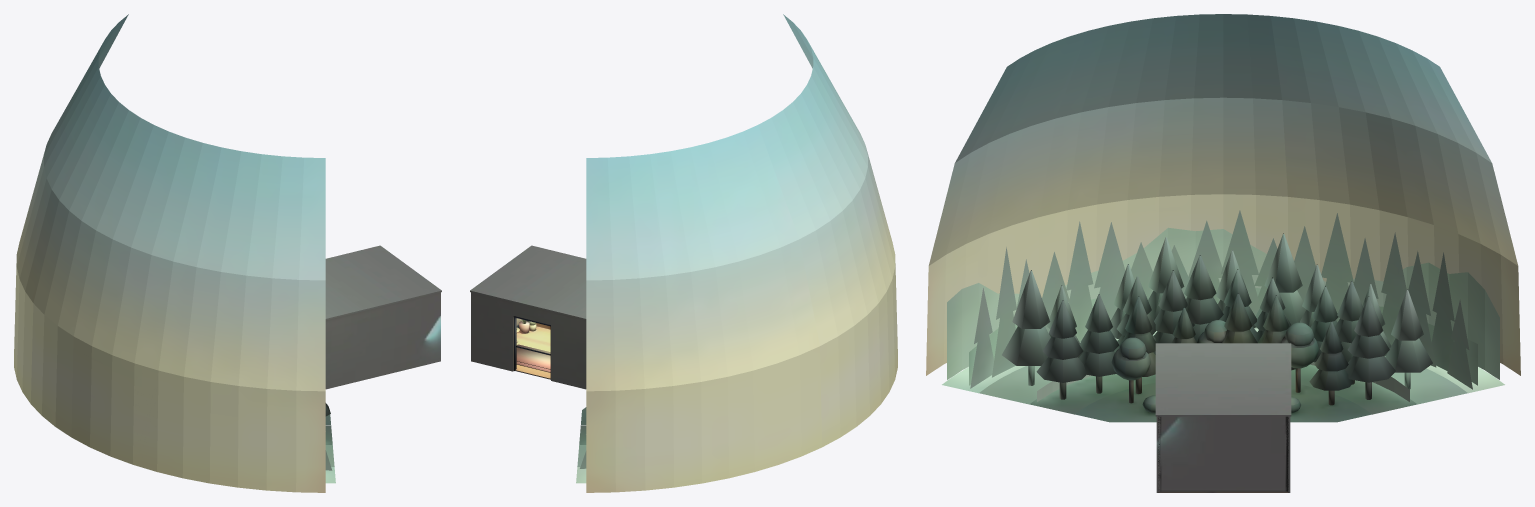
The model's file is lobby.glb.
3 renders of one model, left to right at view 1: azimuth 30°, elevation 25°; view 2: azimuth 150°, elevation 25°; view 3: azimuth 270°, elevation 25°, orthographic. The views are drawn at different scales.
Parts seen in each view (by area): view 1: shell, wall_near, ceiling; view 2: shell, wall_far, ceiling; view 3: shell, ceiling, wall_near.
Part boxes in pixels (bbox=[...]): shell: bbox=[14, 14, 335, 492]; wall_near: bbox=[325, 292, 440, 389]; ceiling: bbox=[325, 245, 441, 320]; shell: bbox=[513, 14, 897, 492]; wall_far: bbox=[471, 292, 586, 389]; ceiling: bbox=[470, 245, 586, 320]; shell: bbox=[926, 14, 1520, 492]; ceiling: bbox=[1155, 343, 1291, 416]; wall_near: bbox=[1156, 416, 1288, 492].
Bounding box in the file's own units: 15 × 12.12 × 19.75.
1 material, 1 textured.
